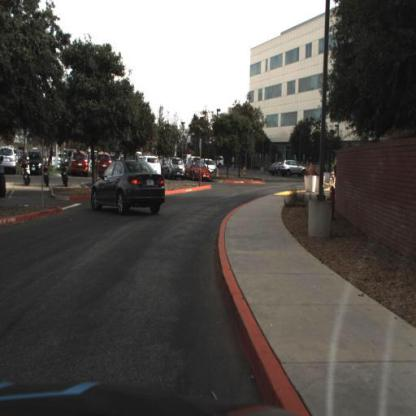car: (91, 153, 168, 218), (184, 158, 212, 185), (163, 155, 188, 183), (23, 148, 46, 178), (69, 150, 92, 179), (281, 157, 310, 180), (2, 141, 18, 177), (145, 152, 162, 175), (203, 153, 217, 175), (215, 153, 227, 171)
